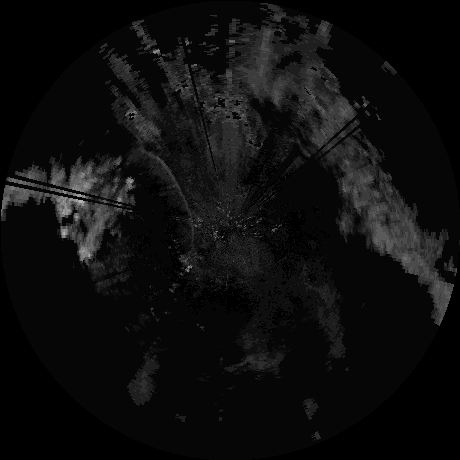frontgust: (143, 153, 195, 250)
